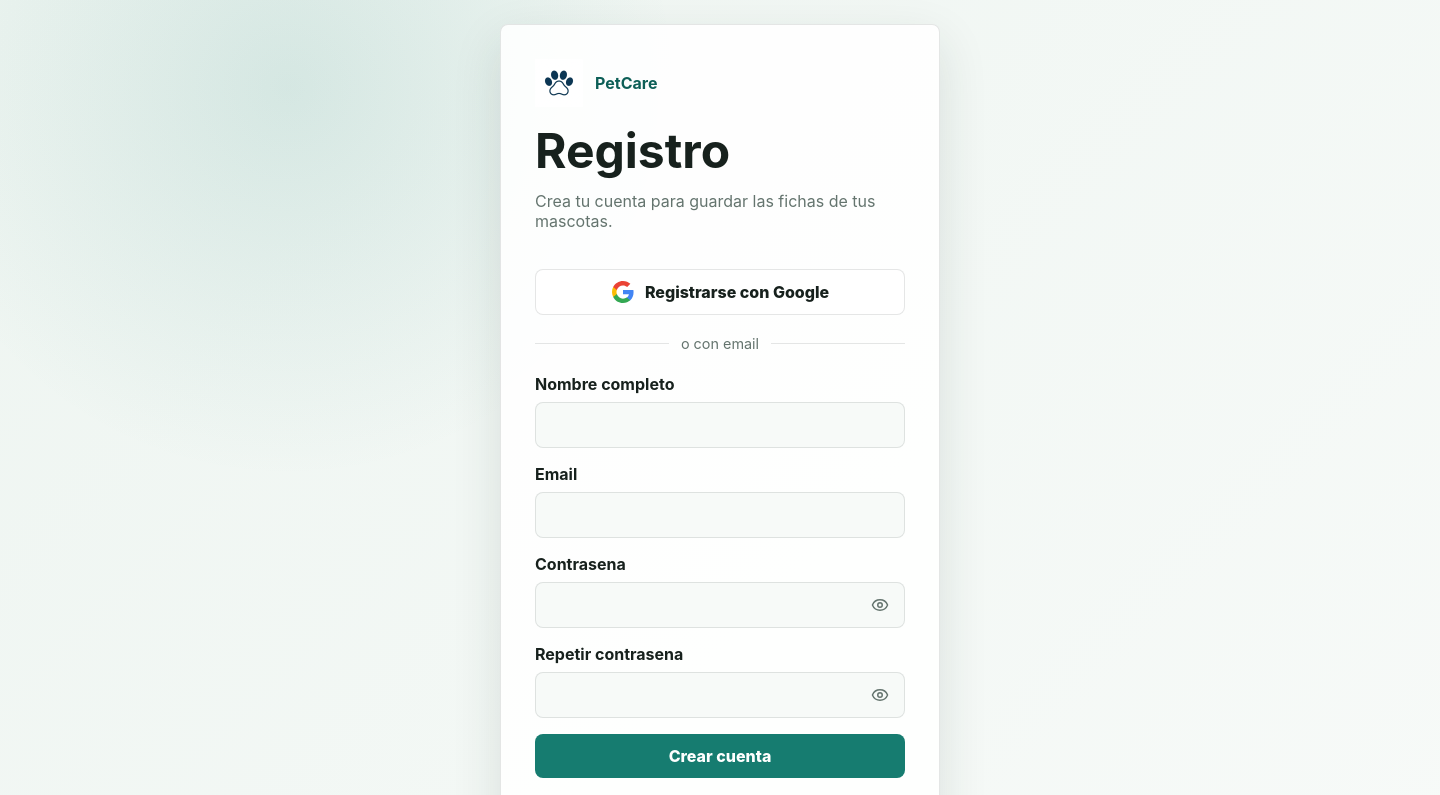
Test case: Register — lo que ve el usuario › muestra error si las contraseñas no coinciden
Step 1. Type "Maria Lopez" into the field labelled "Nombre completo" → x=720, y=425, box x1=535 y1=402 x2=905 y2=448
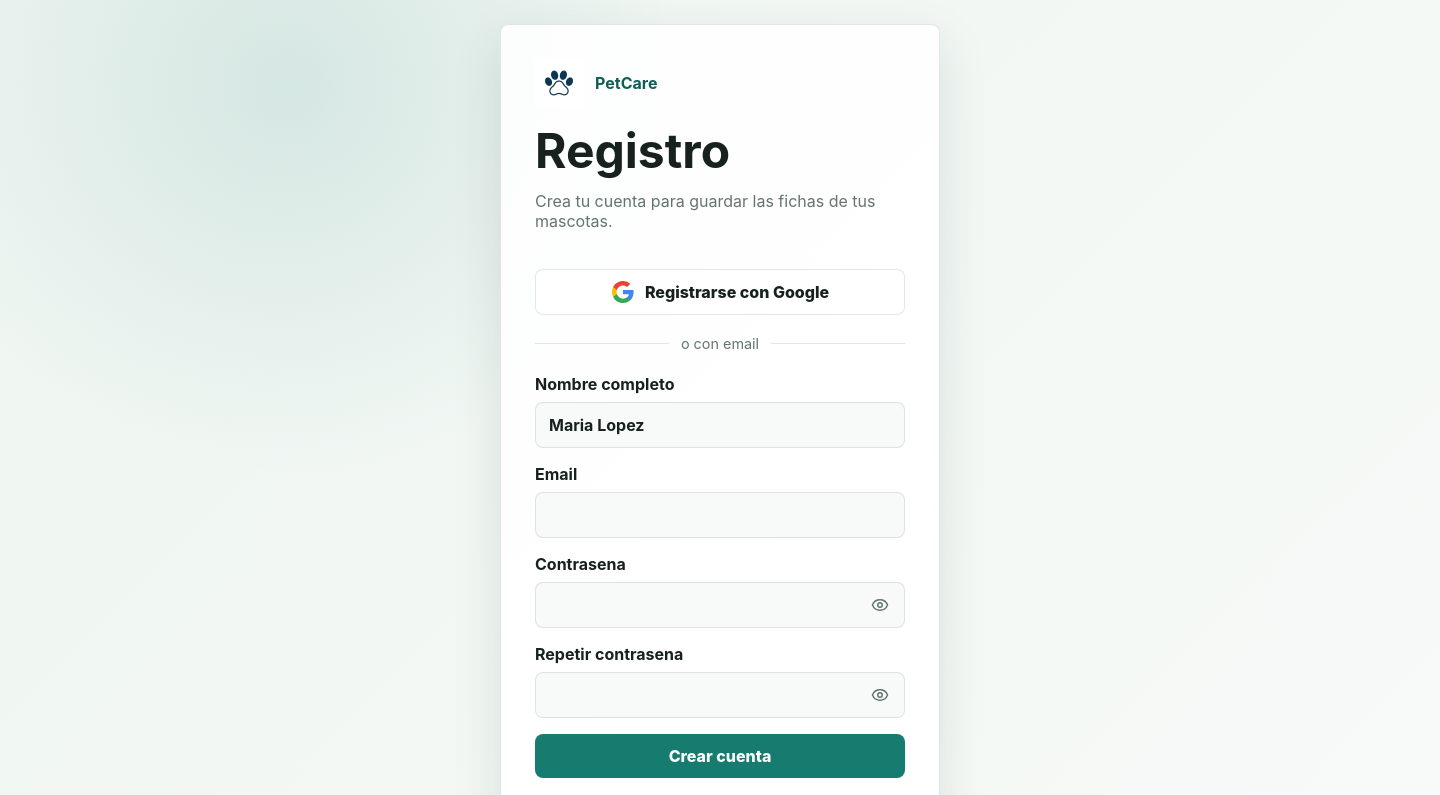
Step 2. Type "user@test.com" into the field labelled "Email" → x=720, y=515, box x1=535 y1=492 x2=905 y2=538
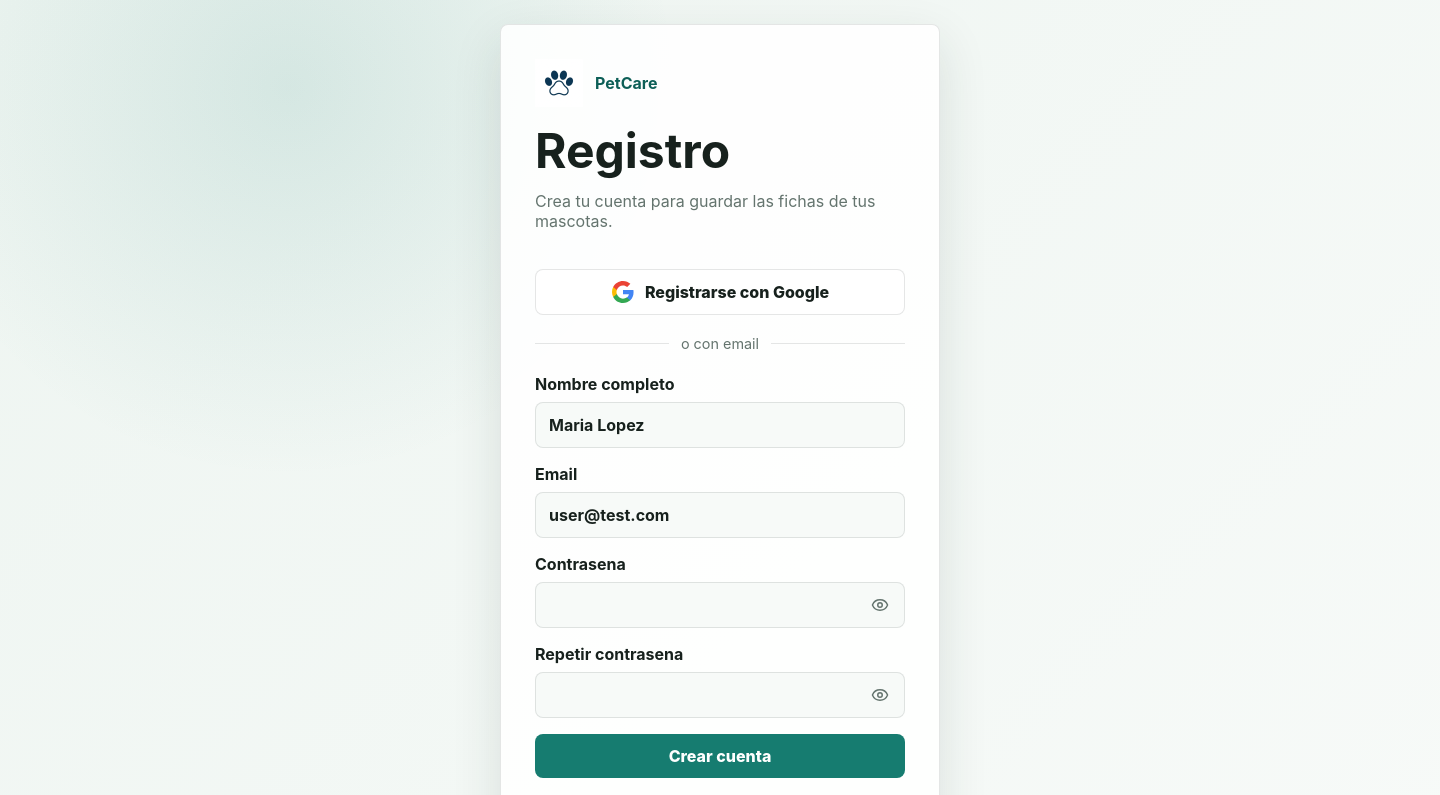
Step 3. Type "password123" into the password field labelled "Contrasena" → x=720, y=605, box x1=535 y1=582 x2=905 y2=628
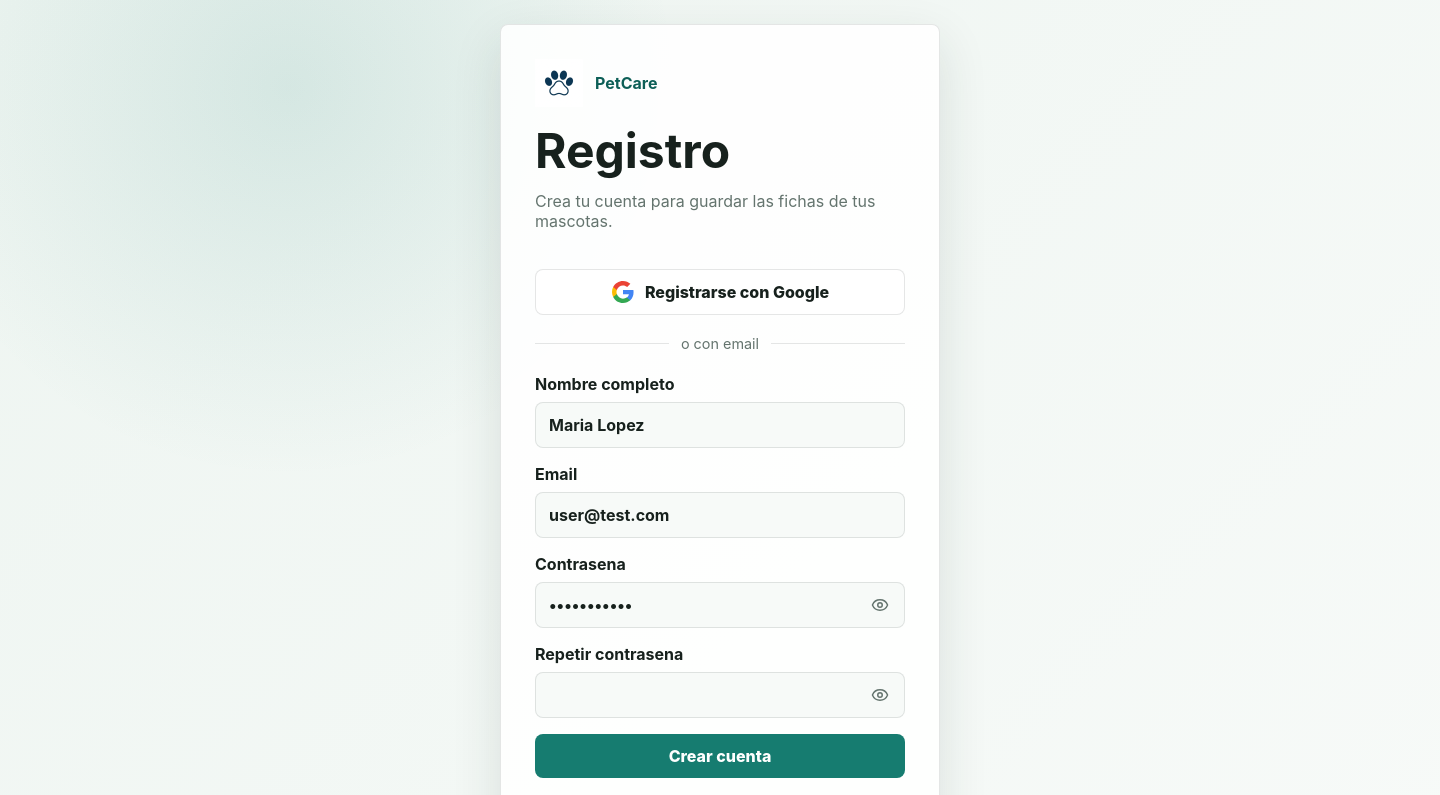
Step 4. Type "otrapassword" into the password field labelled "Repetir contrasena" → x=720, y=695, box x1=535 y1=672 x2=905 y2=718
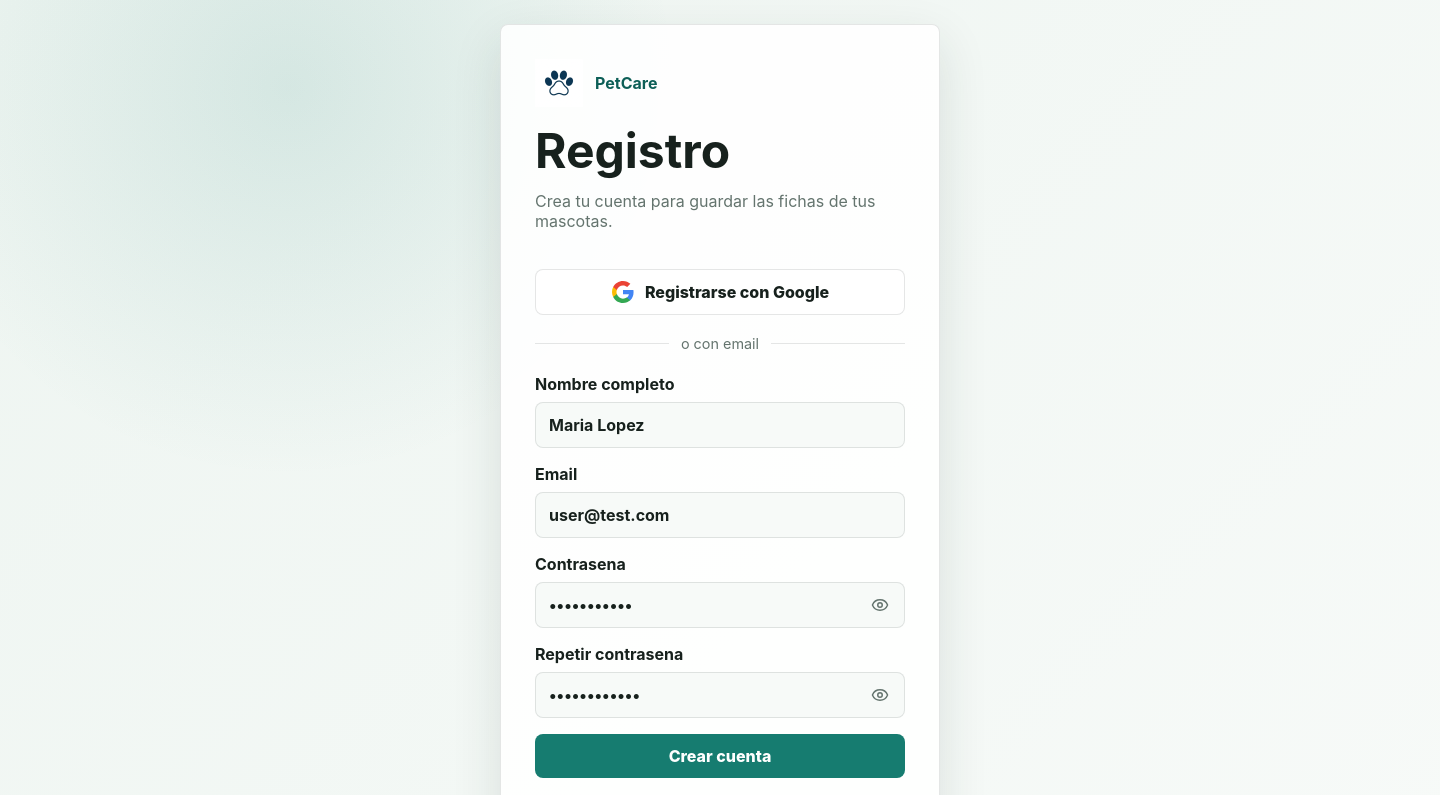
Step 5. Click the button "Crear cuenta" → x=720, y=756, box x1=535 y1=734 x2=905 y2=778
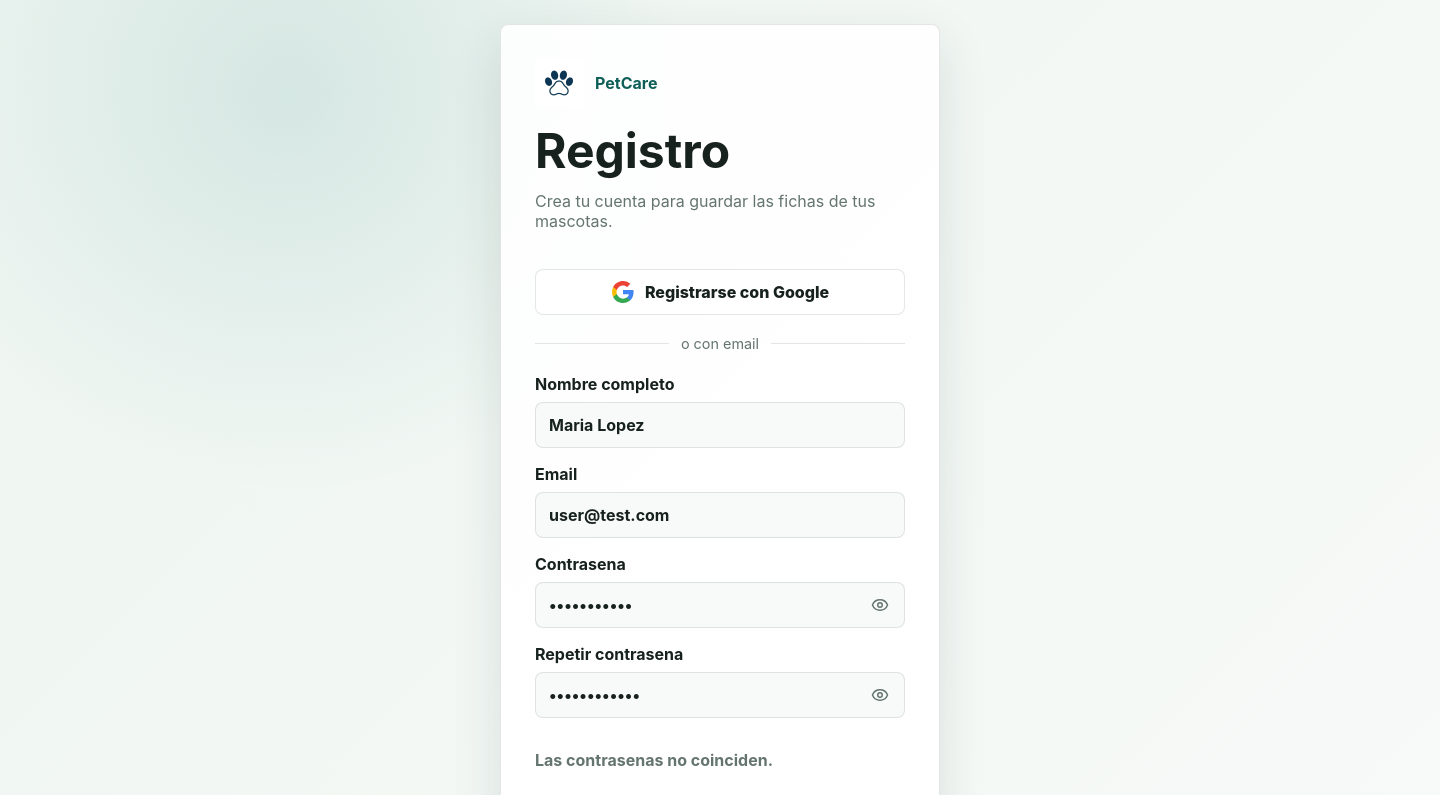
Now the text "Las contrasenas no coinciden." is shown, box x1=535 y1=750 x2=773 y2=770
